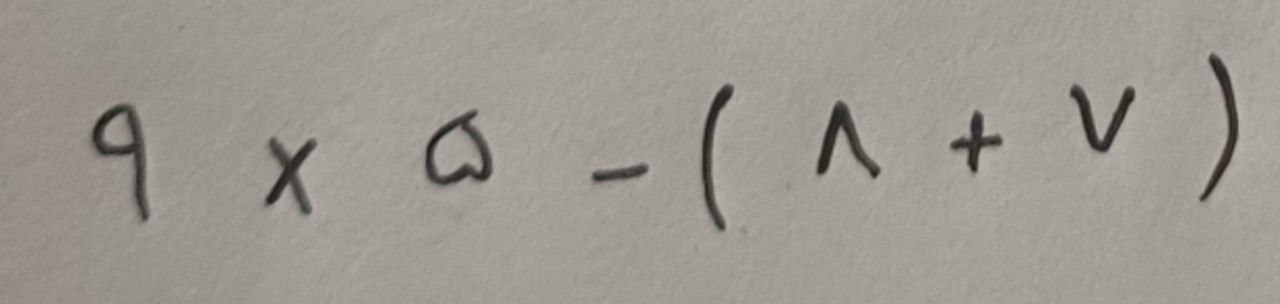character: (1199, 52, 1262, 199), (91, 105, 152, 221), (817, 98, 881, 178), (426, 112, 492, 188), (701, 83, 734, 230), (1070, 86, 1135, 154), (265, 138, 319, 215), (949, 110, 1006, 175), (593, 163, 648, 182)
